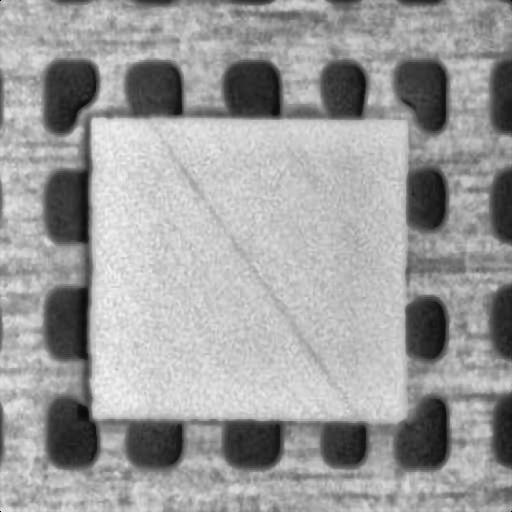DIE_CRACK: (146, 115, 350, 406)
